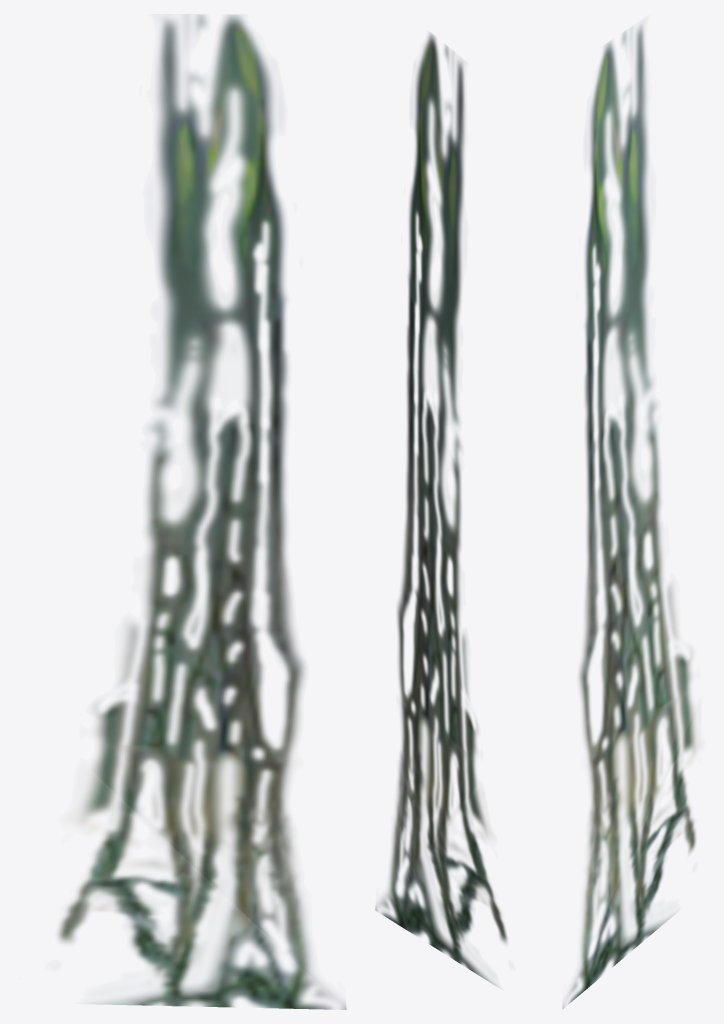
File: TheOctagon_Wires.gltf
The picture shows the model from 3 angles, left to right: view 1: azimuth 30°, elevation 25°; view 2: azimuth 150°, elevation 25°; view 3: azimuth 270°, elevation 25°; orthographic projection. The views are drawn at different scales.
Visible parts, largest first — view 1: TheOctagon_Wires; view 2: TheOctagon_Wires; view 3: TheOctagon_Wires.
Part boxes in pixels (x1,y1,x2,y2): TheOctagon_Wires: (57,14,346,1009); TheOctagon_Wires: (375,33,507,987); TheOctagon_Wires: (562,23,697,1009).
Bounding box in the file's own units: 5.93 × 22.38 × 3.22.
1 material, 1 textured.
